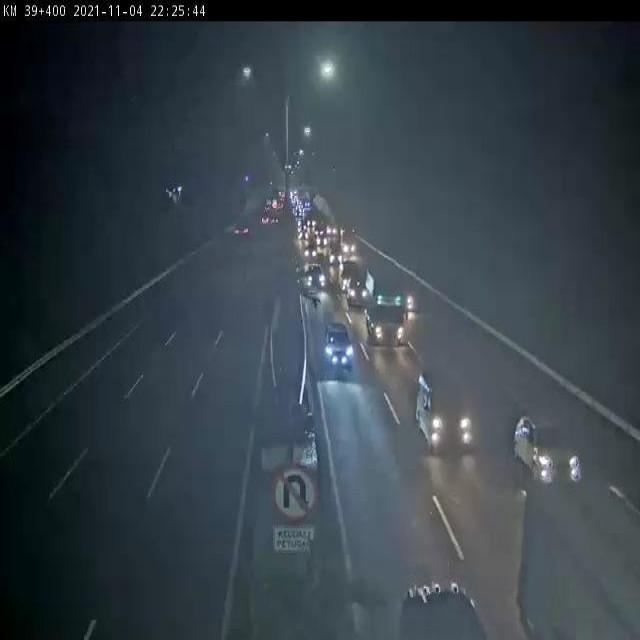car: (512, 415, 582, 493), (414, 372, 474, 456), (322, 321, 355, 376), (302, 263, 327, 297), (340, 260, 362, 292), (346, 278, 367, 310), (402, 276, 420, 312)
truck-m-: (365, 266, 411, 351)
